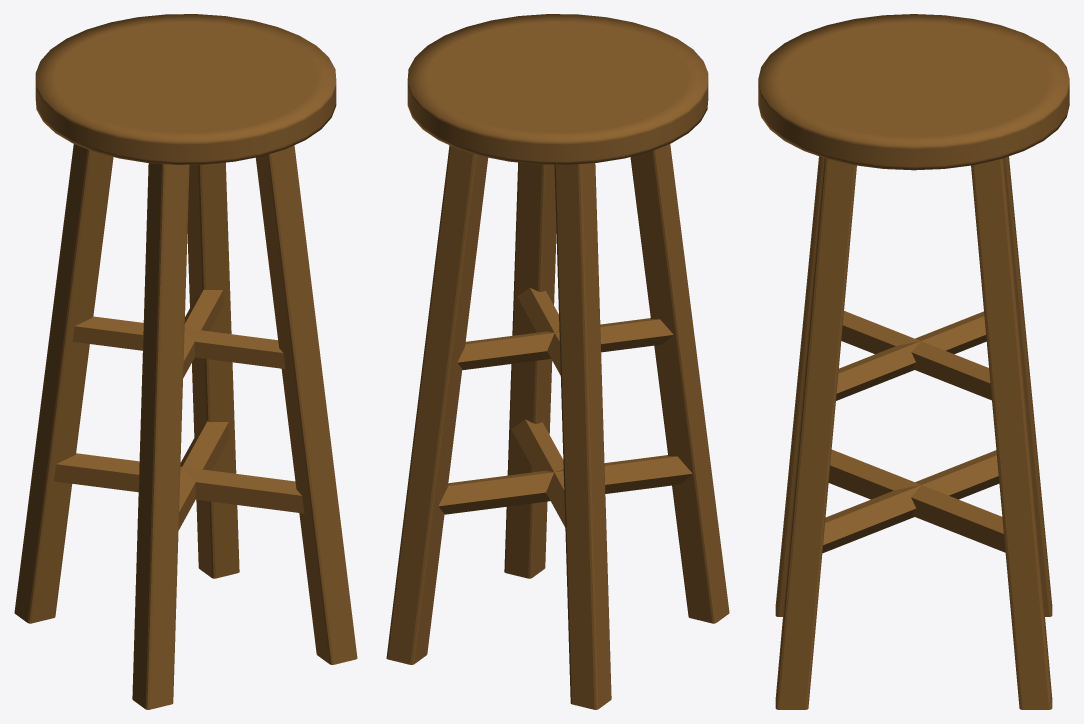
File: Stool.fbx
The picture shows the model from 3 angles, left to right: view 1: azimuth 30°, elevation 25°; view 2: azimuth 150°, elevation 25°; view 3: azimuth 270°, elevation 25°; orthographic projection. The views are drawn at different scales.
Visible parts, largest first — view 1: Cylinder.001; view 2: Cylinder.001; view 3: Cylinder.001.
Boxes of the visible parts, x1,y1,x2,y2 form: Cylinder.001: (14,14,357,709); Cylinder.001: (386,14,729,709); Cylinder.001: (758,14,1069,709).
Bounding box in the file's own units: 200 × 408 × 200.
